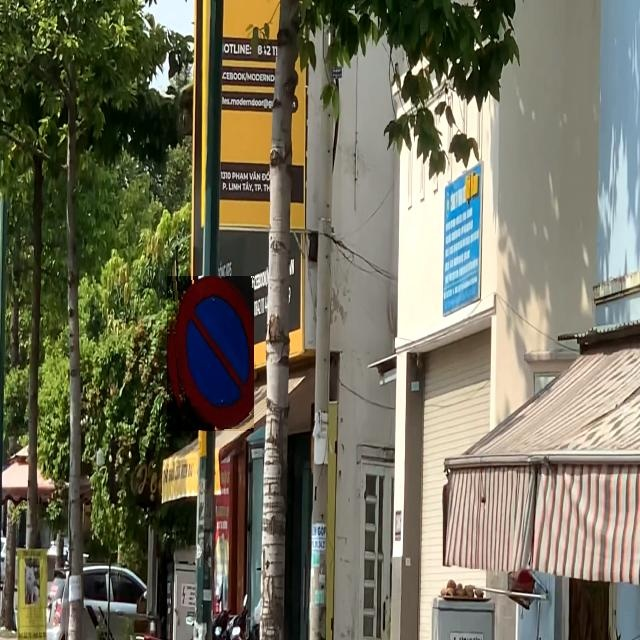bien_cam: (167, 276, 254, 431)
